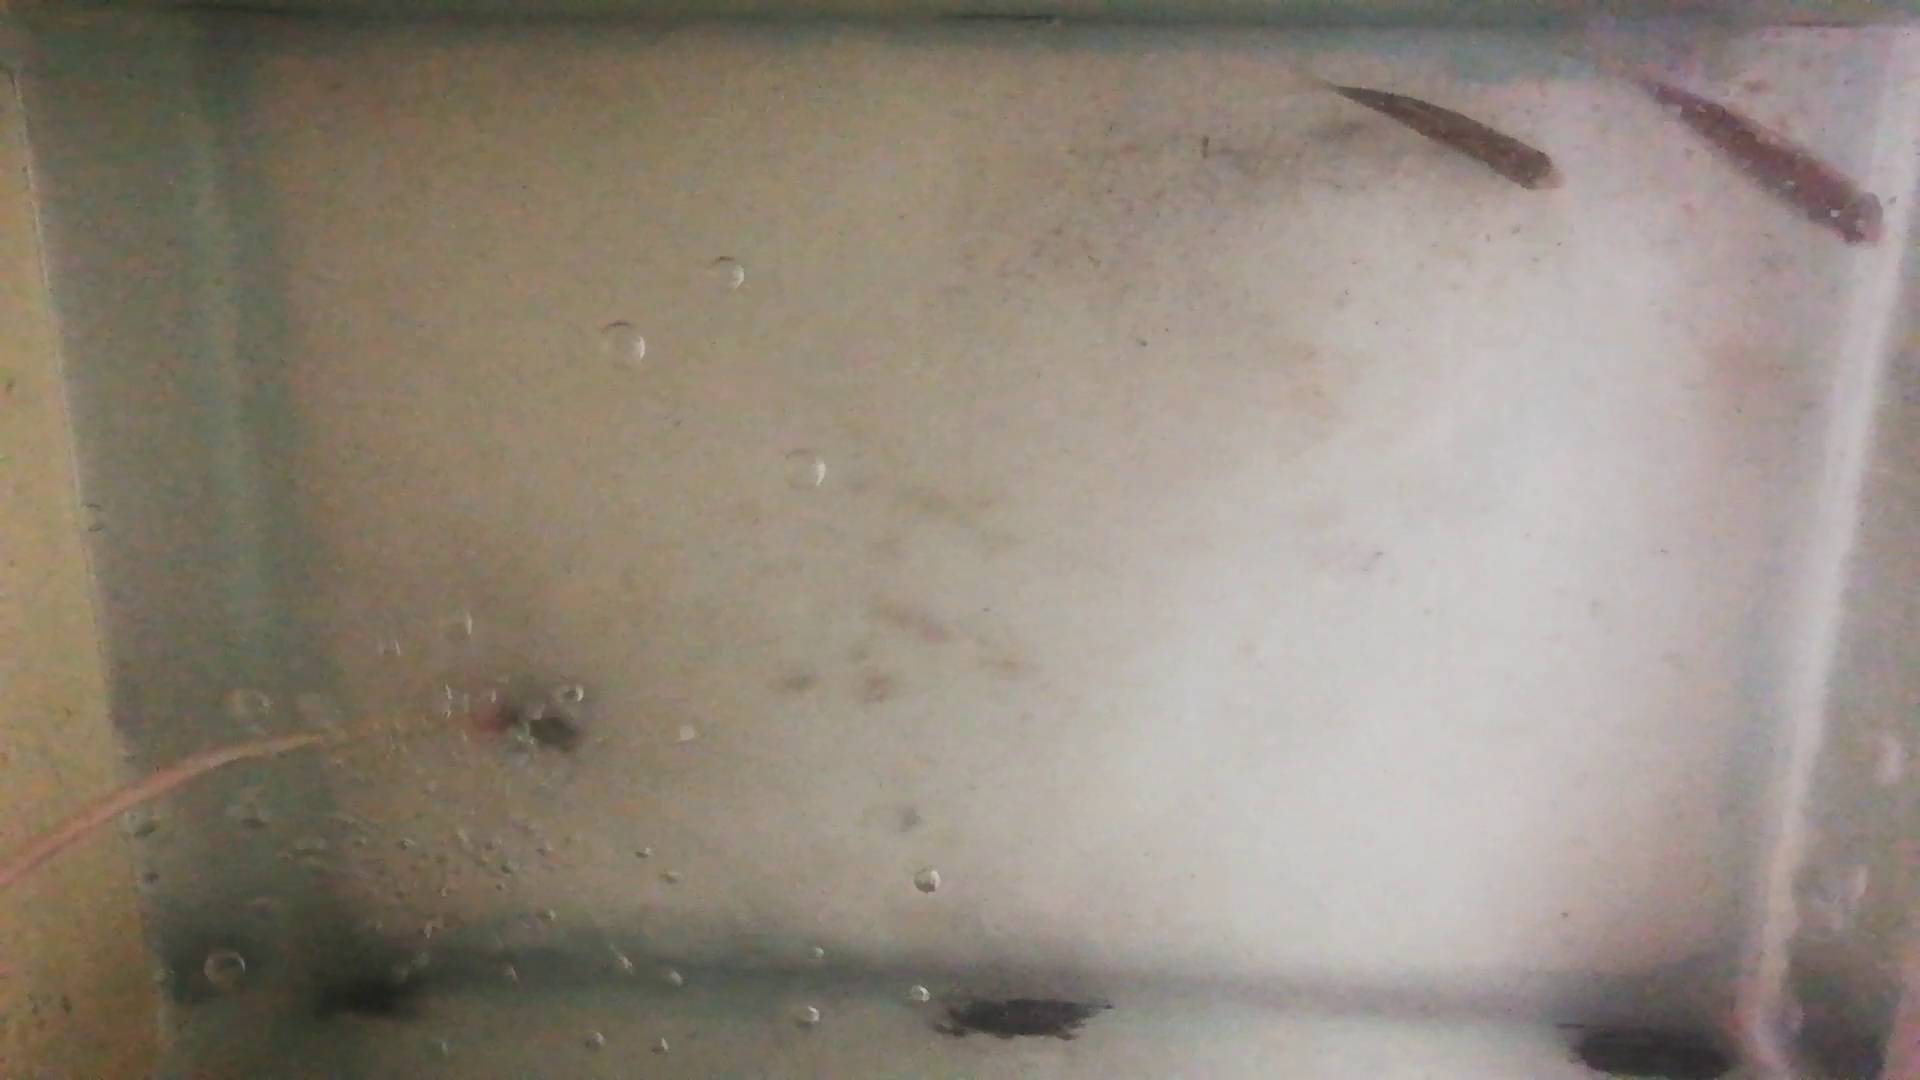fish: (1636, 74, 1892, 251), (1333, 84, 1563, 194)
